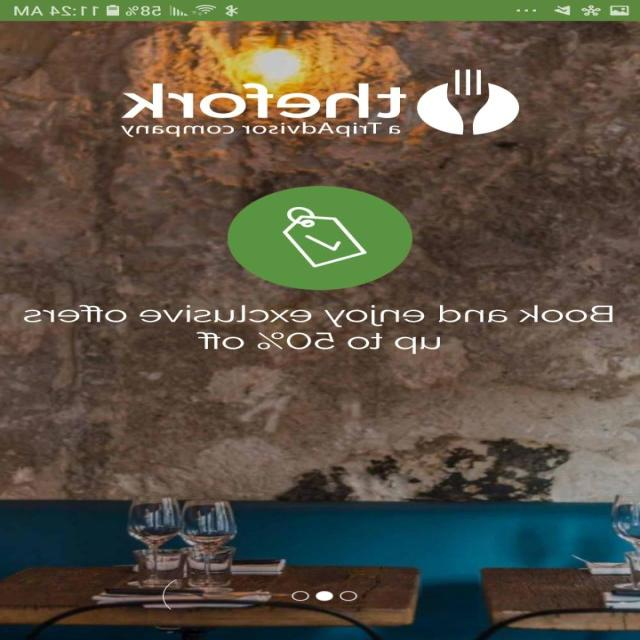BackgroundImage: (1, 21, 640, 639)
Image: (226, 185, 414, 290), (417, 69, 520, 135)
Text: (24, 304, 614, 354), (121, 83, 408, 137)
